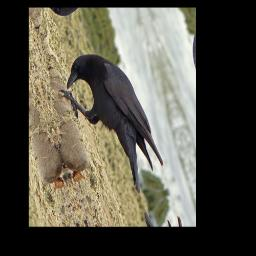Crow: (50, 38, 170, 214)
